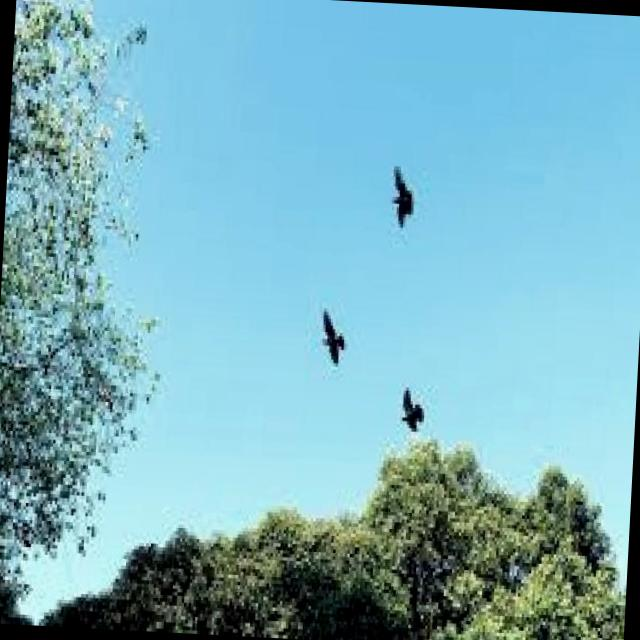bird: (380, 162, 428, 240), (310, 306, 362, 376), (386, 379, 437, 441)
